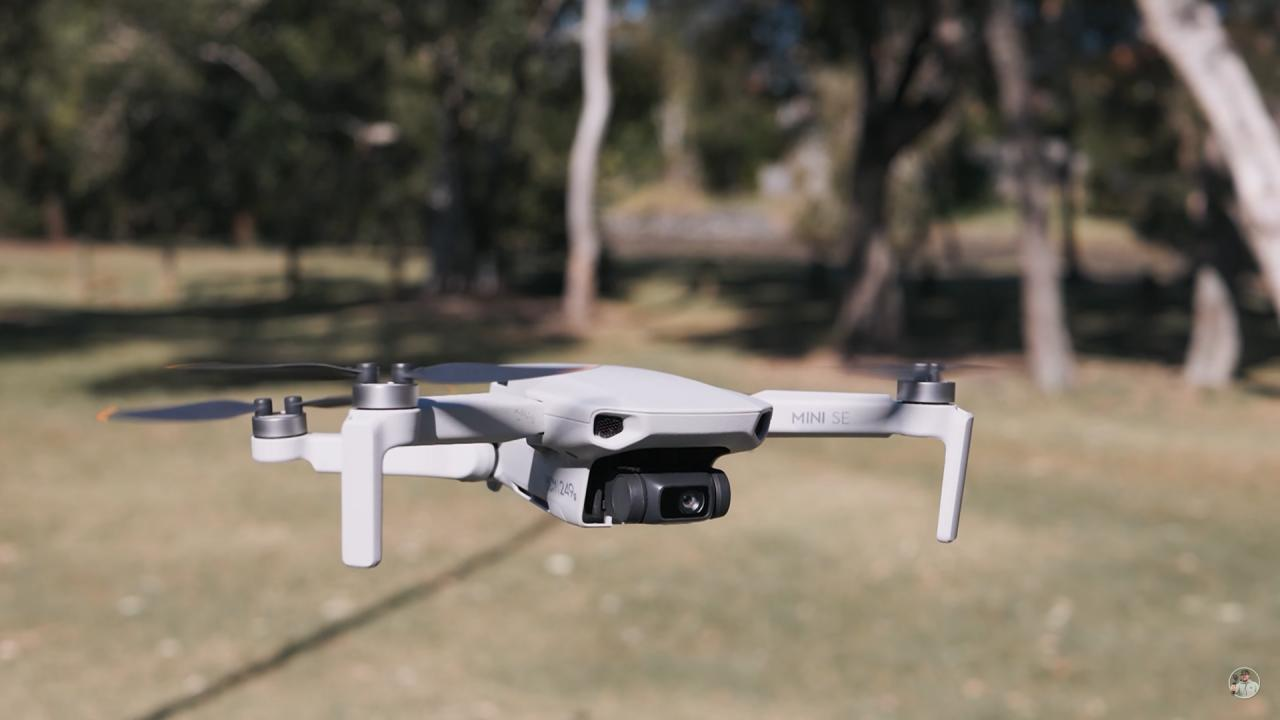Drone: (94, 322, 1052, 580)
